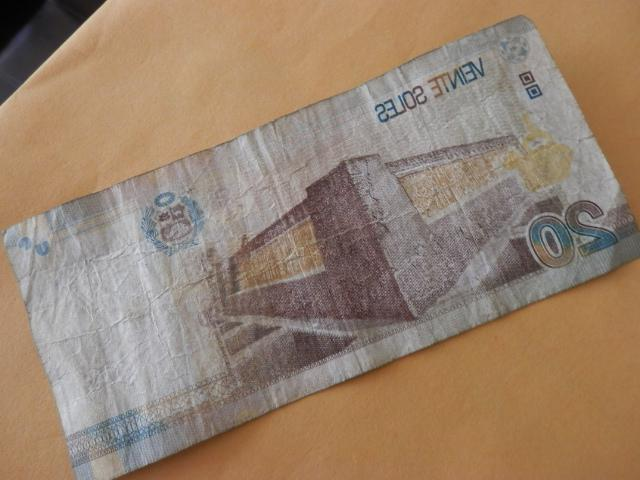B20: (1, 16, 638, 480)
